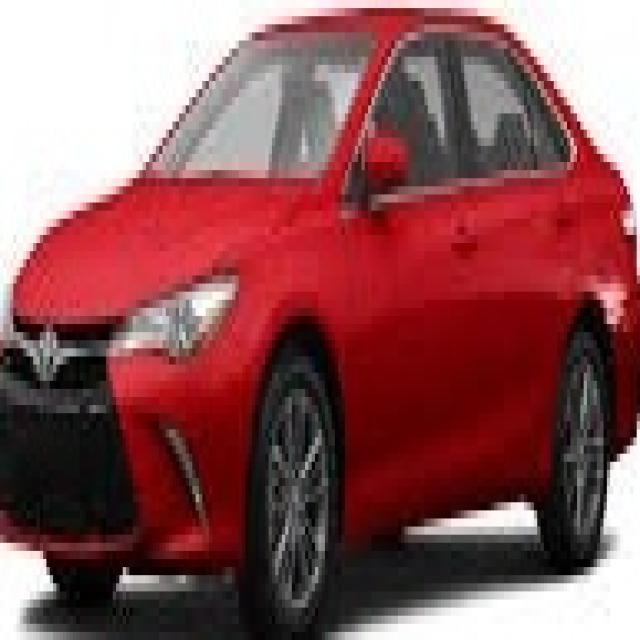red: (5, 1, 640, 618)
